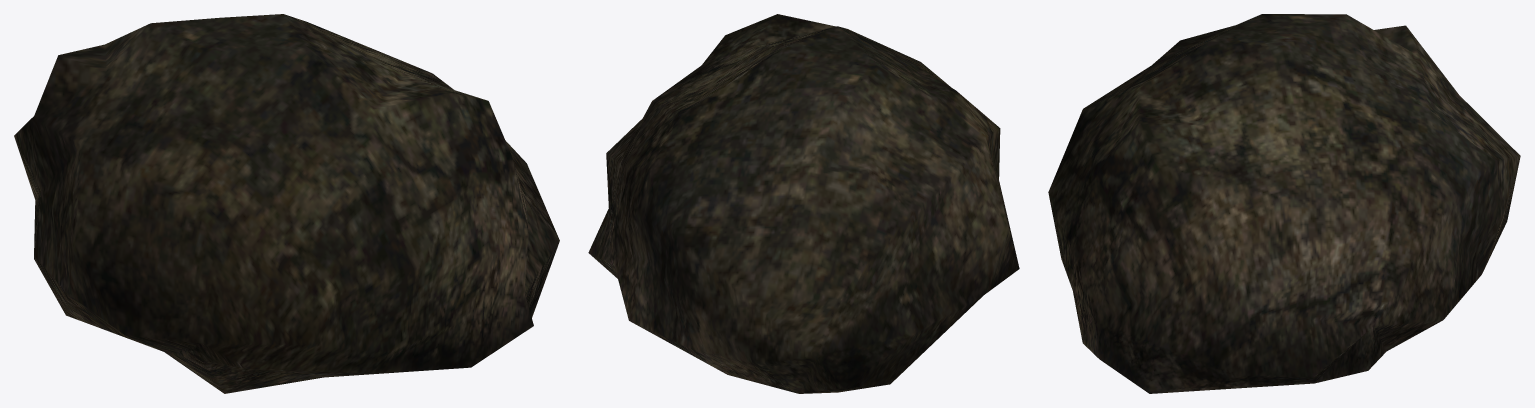
Rendered from stone_med02_brown.dae.
3 views of the same model, side by side, from view 1: azimuth 30°, elevation 25°; view 2: azimuth 150°, elevation 25°; view 3: azimuth 270°, elevation 25° (orthographic). The views are drawn at different scales.
Visible parts, largest first — view 1: stone_med02_mesh; view 2: stone_med02_mesh; view 3: stone_med02_mesh.
Part boxes in pixels (left/top/right/bottom): stone_med02_mesh: left=14, top=14, right=559, bottom=393; stone_med02_mesh: left=588, top=14, right=1019, bottom=393; stone_med02_mesh: left=1048, top=14, right=1520, bottom=393.
Size of the model in its own units: 1.06 by 0.7072 by 1.06.
